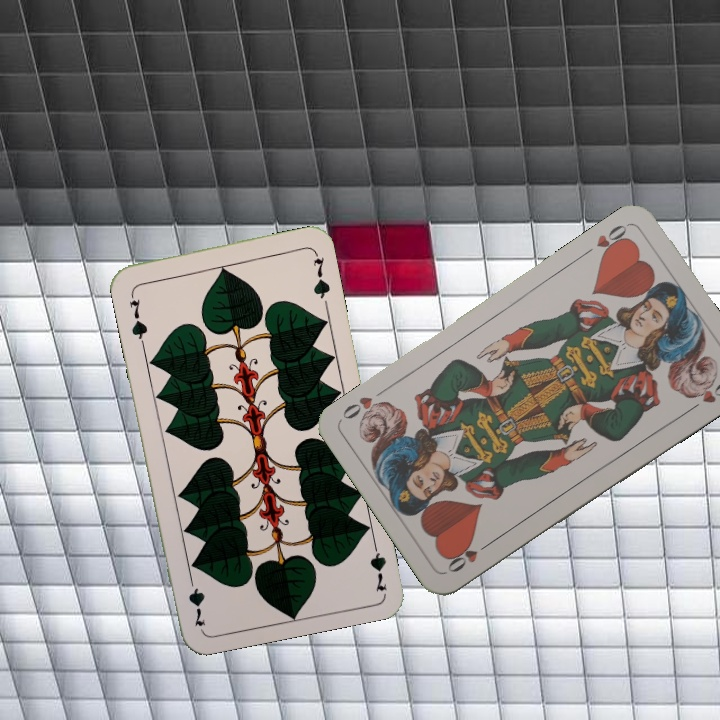G7: (365, 534, 390, 594), (125, 286, 150, 345)
HO: (578, 220, 632, 261), (443, 537, 495, 576)
